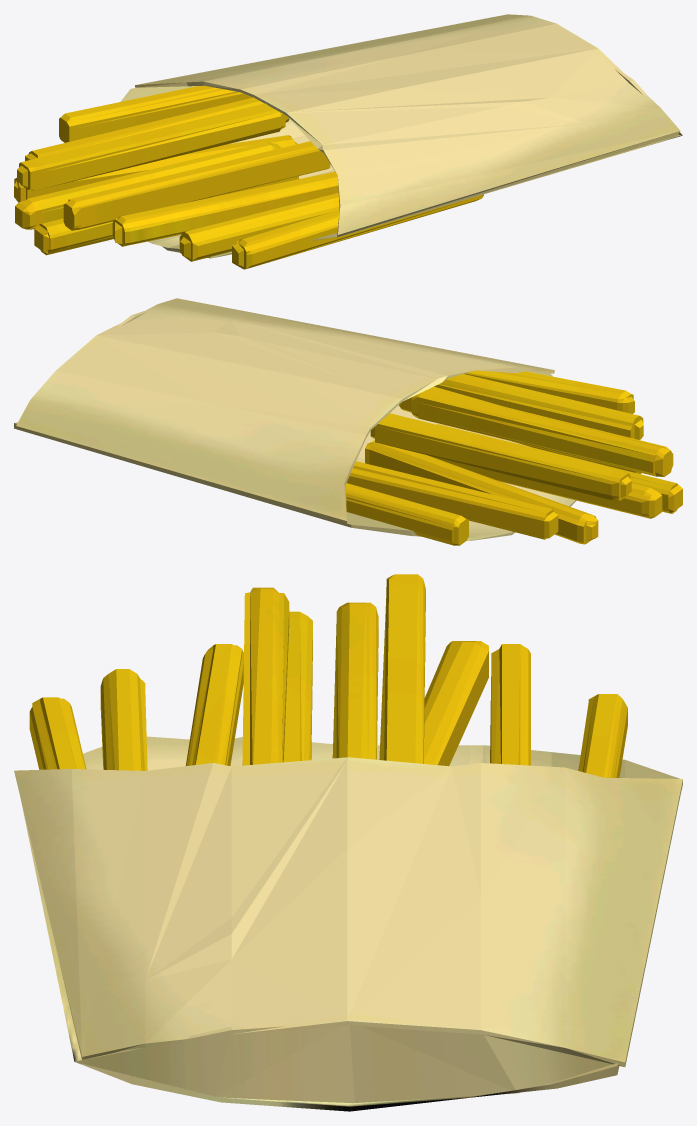
The model's file is Fries.glb.
The picture shows the model from 3 angles, top to bottom: view 1: azimuth 30°, elevation 25°; view 2: azimuth 150°, elevation 25°; view 3: azimuth 270°, elevation 25°; orthographic projection. The views are drawn at different scales.
Visible parts, largest first — view 1: Fries; view 2: Fries; view 3: Fries.
Part boxes in pixels (x1,y1,x2,y2): Fries: (14, 14, 682, 269); Fries: (14, 298, 682, 545); Fries: (14, 574, 682, 1111).
Size of the model in its own units: 281 by 35.35 by 175.
1 material, 1 textured.
